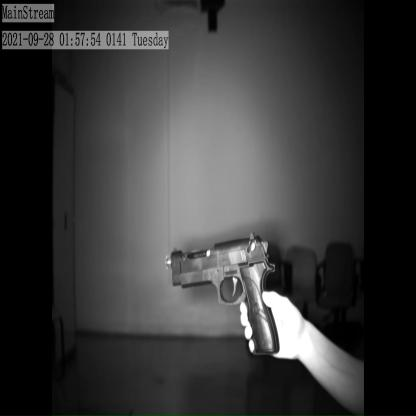weapon: (169, 227, 282, 360)
